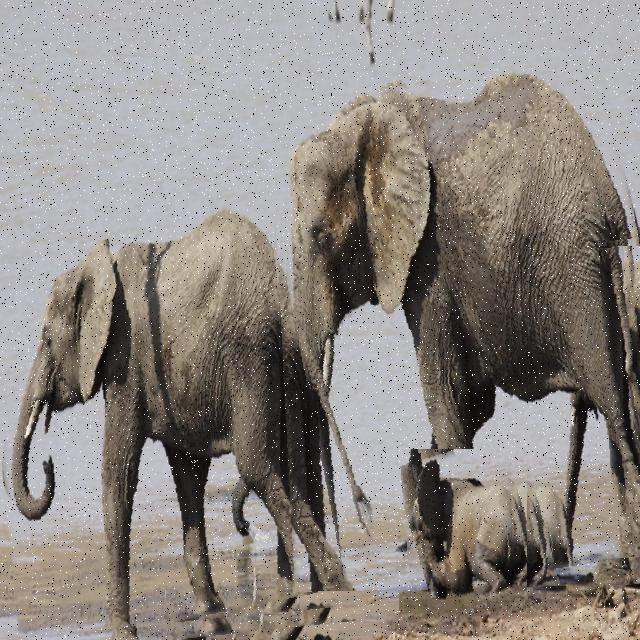elephant: (0, 134, 387, 640), (268, 71, 640, 592), (399, 449, 527, 613), (599, 246, 640, 558)
